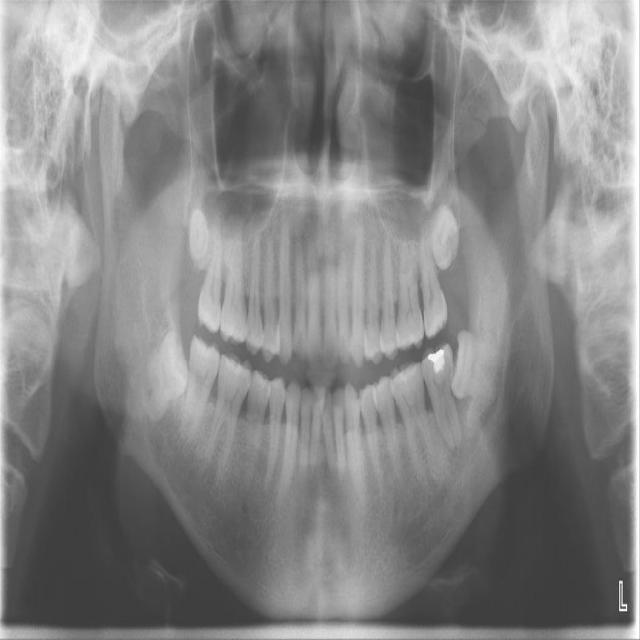Filling: (427, 342, 455, 377)
impacted tooth: (131, 336, 192, 417), (449, 330, 508, 410)
